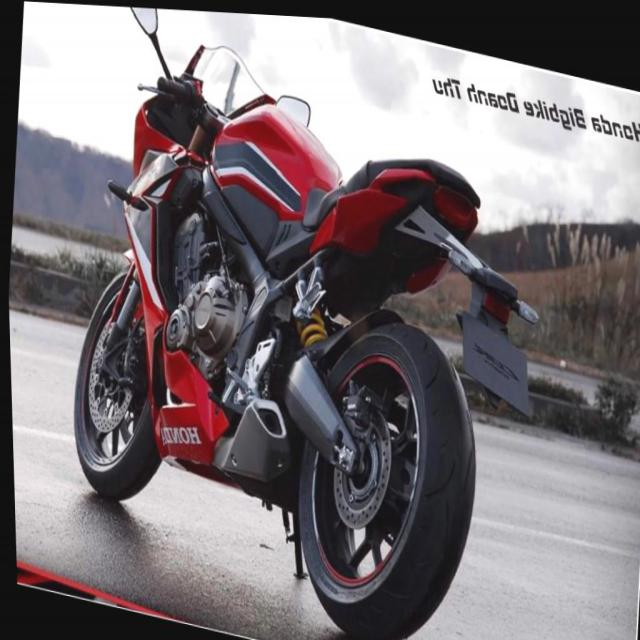CBR650R: (43, 9, 510, 639)
